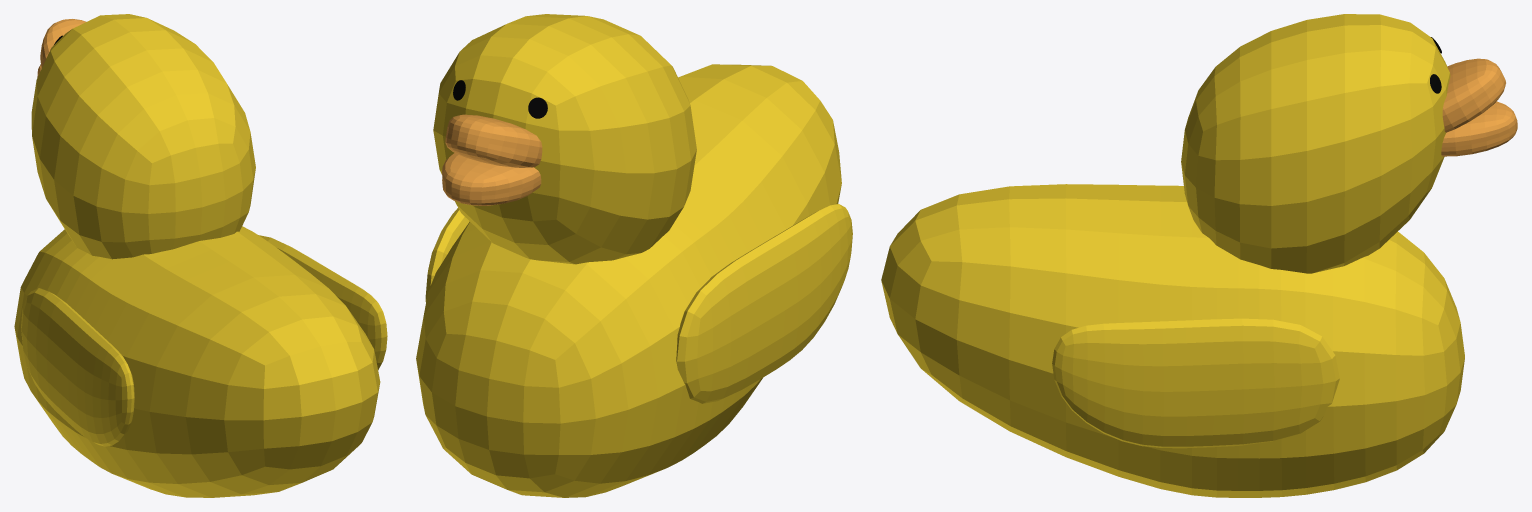
File: kacsa.fbx
3 renders of one model, left to right at view 1: azimuth 30°, elevation 25°; view 2: azimuth 150°, elevation 25°; view 3: azimuth 270°, elevation 25°, orthographic. The views are drawn at different scales.
Visible parts, largest first — view 1: Cube; view 2: Cube; view 3: Cube.
Part boxes in pixels (bbox=[...]): Cube: bbox=[14, 14, 387, 497]; Cube: bbox=[416, 14, 852, 497]; Cube: bbox=[881, 14, 1517, 497].
Bounding box in the file's own units: 189 × 272 × 344.
